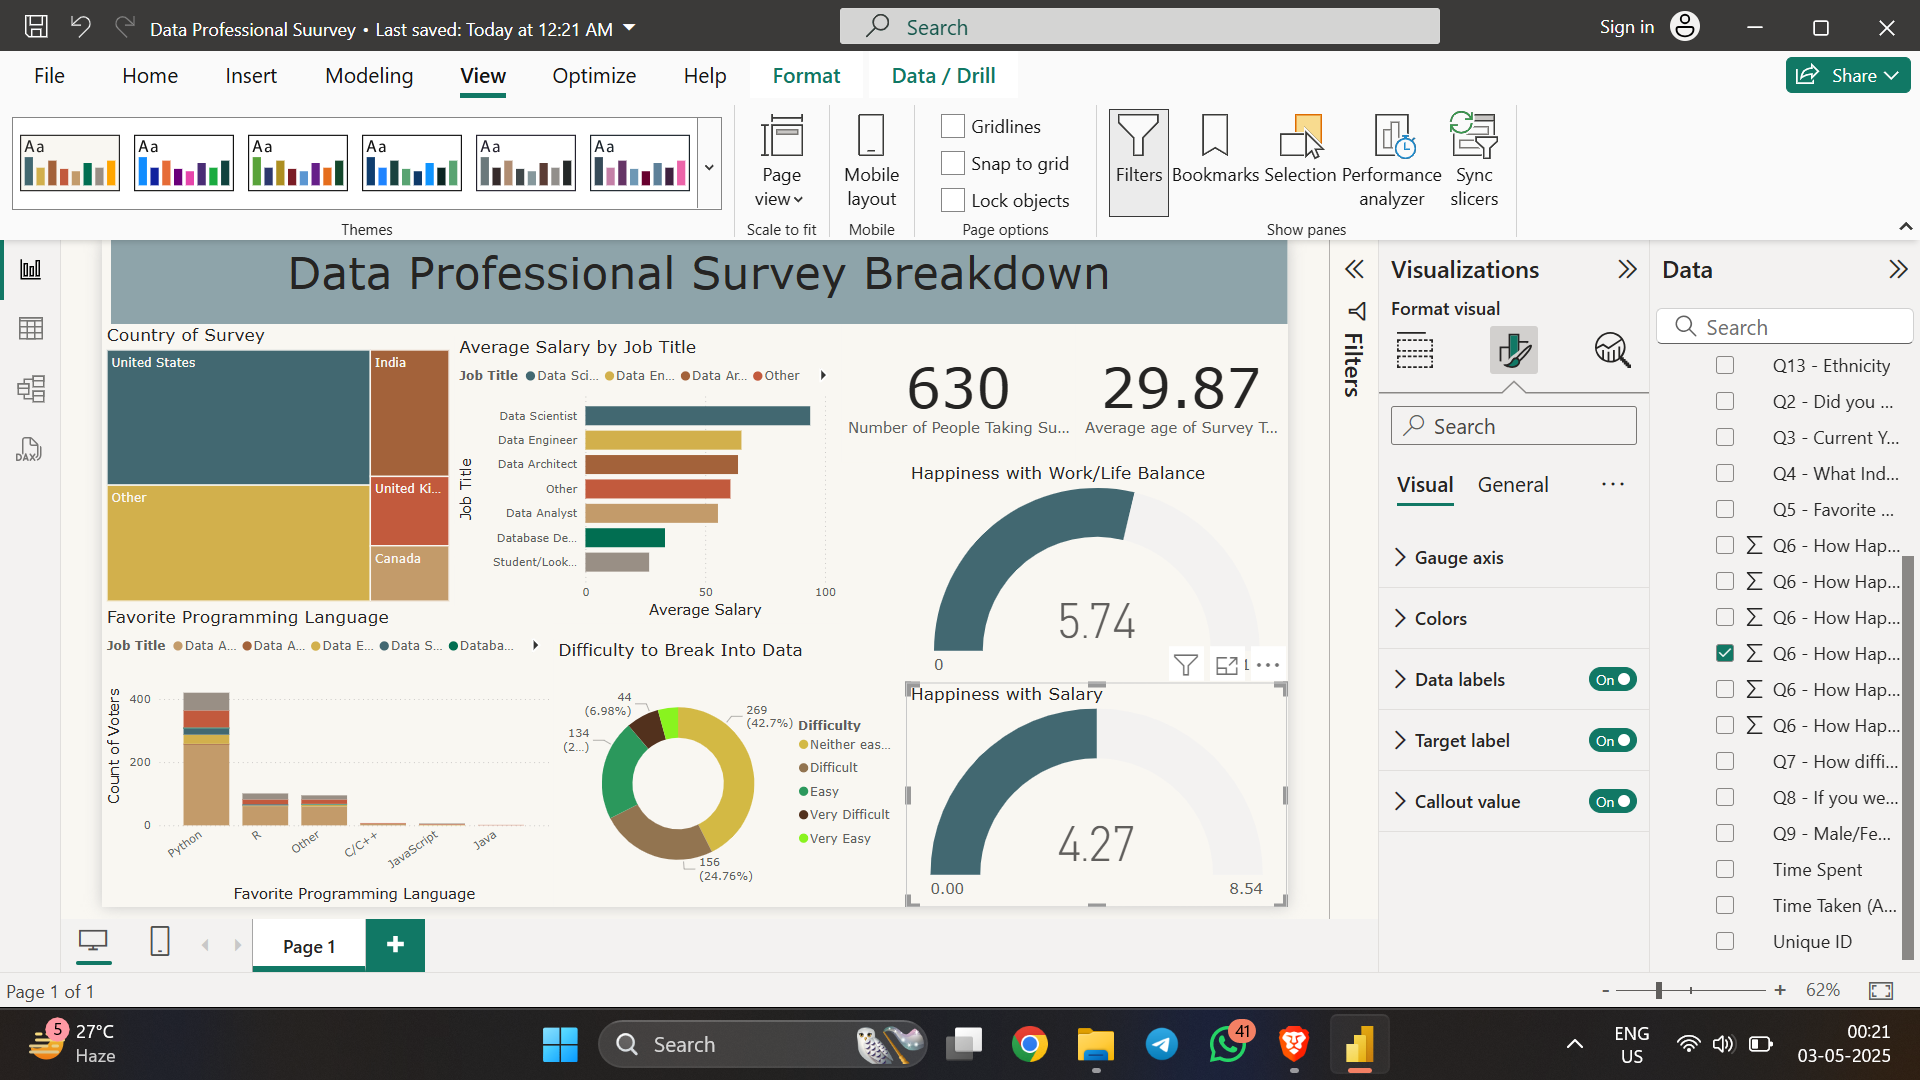

The page's visual inventory and layout, read from the dashboard file:
{"tool":"powerbi","page":{"name":"Page 1","canvas":[1280,720],"ordinal":0},"visuals":[{"type":"textbox","box":[9.4,0,1269.9,90.7],"z":0},{"type":"card","fields":{"Values":["CountNonNull(Data Professional Survey.Unique ID)"]},"box":[797.5,90.7,253.2,149.3],"z":1},{"type":"card","fields":{"Values":["Avg(Data Professional Survey.Q10 - Current Age)"]},"box":[1050.7,90.7,228.7,149.3],"z":2},{"type":"barChart","title":"Average Annual Salary by Job Role","fields":{"Category":["Data Professional Survey.Q1 - Which Title Best Fits your Current Role?.1"],"Y":["Avg(Data Professional Survey.Average Salary)"],"Series":["Data Professional Survey.Q1 - Which Title Best Fits your Current Role?.1"]},"box":[379.8,103.9,417.6,309.9],"z":3},{"type":"columnChart","title":"Preferred Programming Language","fields":{"Category":["Data Professional Survey.Q5 - Favorite Programming Language.1"],"Y":["CountNonNull(Data Professional Survey.Unique ID)"],"Series":["Data Professional Survey.Q1 - Which Title Best Fits your Current Role?.1"]},"box":[0,395,487.6,325],"z":4},{"type":"treemap","title":"Survey Respondents by Country","fields":{"Group":["Data Professional Survey.Q11 - Which Country do you live in?.1"],"Values":["CountNonNull(Data Professional Survey.Q11 - Which Country do you live in?.1)"]},"box":[0,90.7,379.8,304.3],"z":5},{"type":"gauge","title":"Average Rating: Work-Life Balance Satisfaction","fields":{"Y":["Avg(Data Professional Survey.Q6 - How Happy are you in your Current Position with the following? (Work/Life Balance))"],"MinValue":["Min(Data Professional Survey.Q6 - How Happy are you in your Current Position with the following? (Work/Life Balance))1"],"MaxValue":["Max(Data Professional Survey.Q6 - How Happy are you in your Current Position with the following? (Work/Life Balance))2"]},"box":[867.4,240,412,238.1],"z":6},{"type":"gauge","title":"Average Rating: Salary Satisfaction","fields":{"Y":["Avg(Data Professional Survey.Q6 - How Happy are you in your Current Position with the following? (Salary))"]},"box":[867.4,478.1,412,241.9],"z":7},{"type":"donutChart","title":"Perceived Difficulty of Entering the Data Field","fields":{"Category":["Data Professional Survey.Q7 - How difficult was it for you to break into Data?"],"Y":["CountNonNull(Data Professional Survey.Q7 - How difficult was it for you to break into Data?)"]},"box":[487.6,430.9,379.8,289.1],"z":8}]}

Visuals, with their boxes on the page's 1280x720 design canvas (x1, y1, x2, y2). These are canvas units, not pixel positions in the 1920x1080 screenshot, which may show the page scaled, cropped or inside an application window:
textbox: (9,0,1279,91)
card - CountNonNull(Data Professional Survey.Unique ID): (798,91,1051,240)
card - Avg(Data Professional Survey.Q10 - Current Age): (1051,91,1279,240)
"Average Annual Salary by Job Role" barChart: (380,104,797,414)
"Preferred Programming Language" columnChart: (0,395,488,720)
"Survey Respondents by Country" treemap: (0,91,380,395)
"Average Rating: Work-Life Balance Satisfaction" gauge: (867,240,1279,478)
"Average Rating: Salary Satisfaction" gauge: (867,478,1279,720)
"Perceived Difficulty of Entering the Data Field" donutChart: (488,431,867,720)
